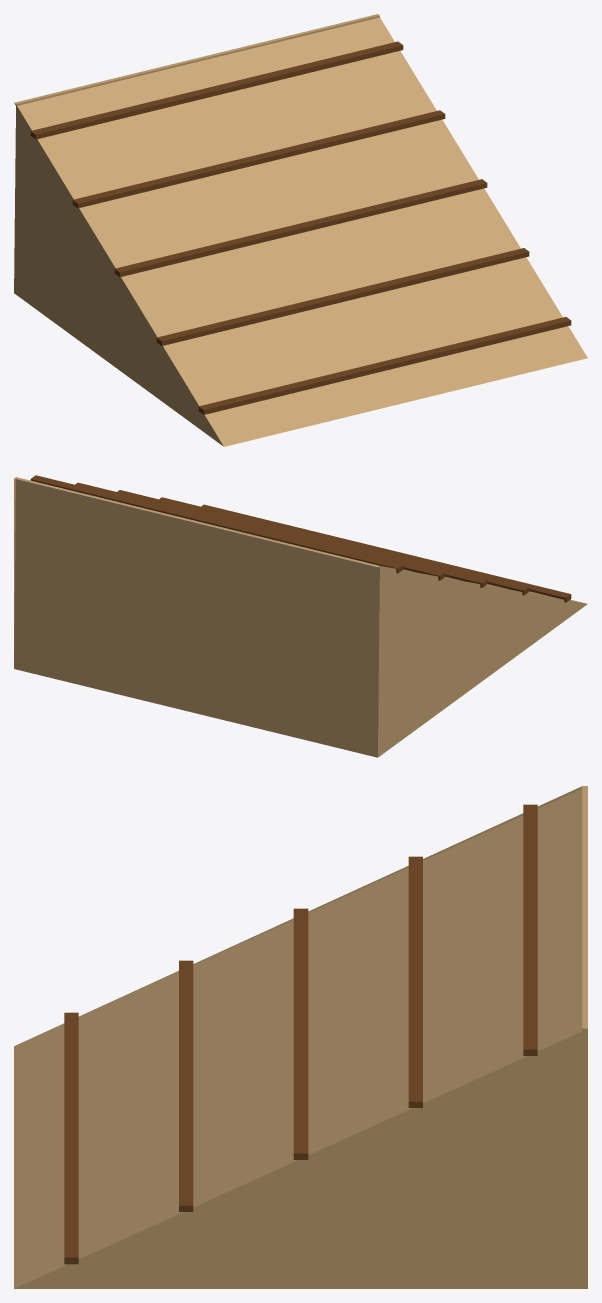
Rendered from ramp_2m.glb.
The picture shows the model from 3 angles, top to bottom: view 1: azimuth 30°, elevation 25°; view 2: azimuth 150°, elevation 25°; view 3: azimuth 270°, elevation 25°; orthographic projection. The views are drawn at different scales.
Visible parts, largest first — view 1: ramp_2m; view 2: ramp_2m; view 3: ramp_2m.
Boxes of the visible parts, x1=… form: ramp_2m: x1=14, y1=14, x2=587, y2=446; ramp_2m: x1=14, y1=475, x2=587, y2=757; ramp_2m: x1=14, y1=786, x2=587, y2=1288.
Size of the model in its own units: 2.02 by 1 by 2.
